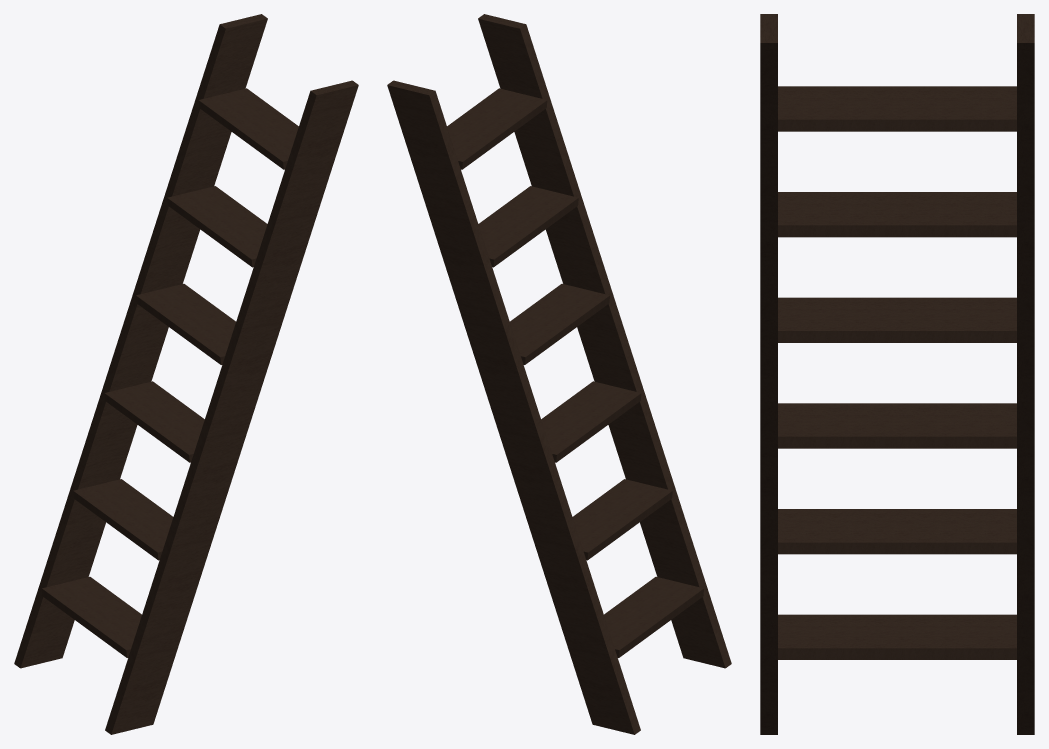
The model's file is stairs.glb.
The picture shows the model from 3 angles, left to right: view 1: azimuth 30°, elevation 25°; view 2: azimuth 150°, elevation 25°; view 3: azimuth 270°, elevation 25°; orthographic projection. The views are drawn at different scales.
Visible parts, largest first — view 1: Stairs; view 2: Stairs; view 3: Stairs.
Boxes of the visible parts, x1=… form: Stairs: x1=14, y1=14, x2=358, y2=734; Stairs: x1=387, y1=14, x2=731, y2=734; Stairs: x1=760, y1=14, x2=1034, y2=734.
Size of what is drawn, in the model's own units: 1.33 by 3.02 by 0.9001.
Materials: 1 (1 with a texture image).
